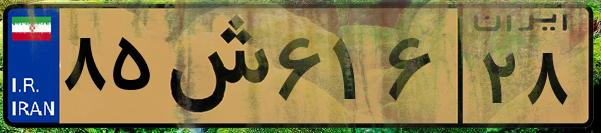1: (330, 28, 385, 110)
2: (475, 38, 525, 113)
5: (110, 28, 158, 98)
6: (270, 28, 330, 110), (385, 28, 445, 110)
8: (57, 26, 110, 100), (525, 38, 570, 115)
ش: (158, 12, 270, 120)
